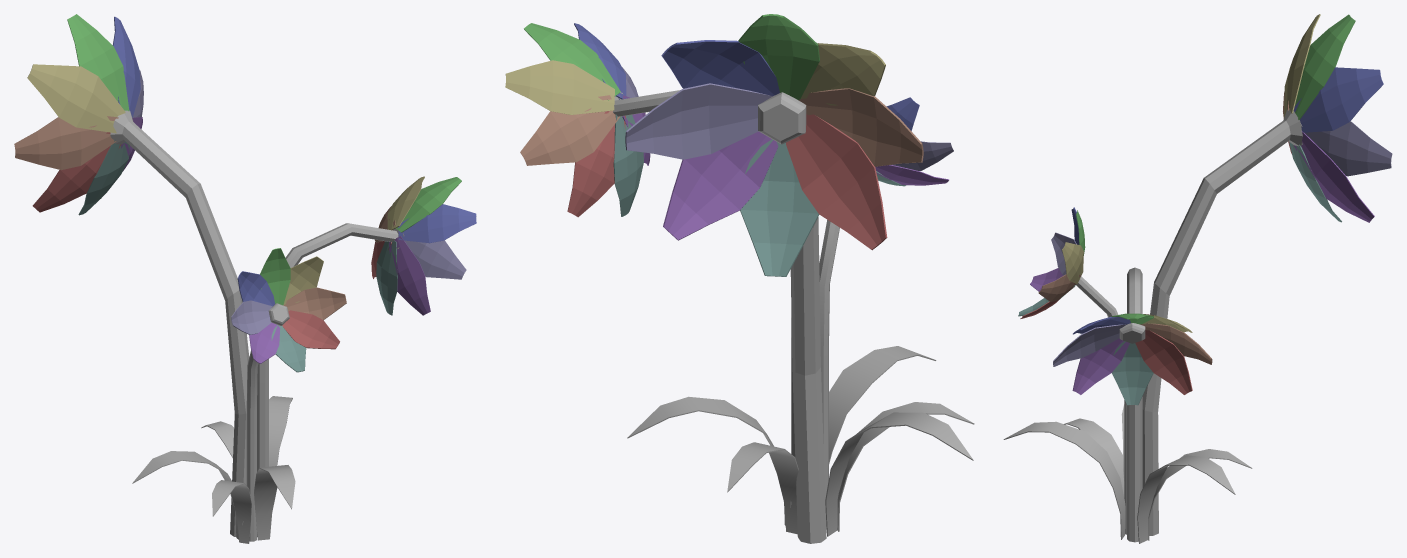
Rendered from Flores var3.fbx.
3 views of the same model, side by side, from view 1: azimuth 30°, elevation 25°; view 2: azimuth 150°, elevation 25°; view 3: azimuth 270°, elevation 25° (orthographic). The views are drawn at different scales.
Parts seen in each view (by area): view 1: caule_geo (×3), petala_geo2 (×3), petala_geo1 (×3), petala_geo3 (×2), petala_geo8 (×3), petala_geo5 (×3), petala_geo4 (×2), petala_geo7 (×2), petala_geo6 (×2), mato_geo3, mato_geo2, mato_geo1; view 2: caule_geo (×3), petala_geo4 (×2), petala_geo3 (×2), petala_geo7 (×2), petala_geo5 (×2), petala_geo6 (×2), petala_geo2 (×2), petala_geo8 (×3), petala_geo1 (×2), mato_geo3, mato_geo1, mato_geo2 (+1 smaller); view 3: caule_geo (×3), petala_geo7 (×2), petala_geo6 (×2), petala_geo8, mato_geo1, petala_geo1, petala_geo5 (×2), mato_geo2, petala_geo4, petala_geo2 (×2), petala_geo3 (×2), mato_geo3.
Boxes of the visible parts, x1=… form: caule_geo (×3): x1=110, y1=110, x2=398, y2=541; petala_geo2 (×3): x1=27, y1=64, x2=424, y2=305; petala_geo1 (×3): x1=67, y1=14, x2=461, y2=305; petala_geo3 (×2): x1=14, y1=116, x2=346, y2=320; petala_geo8 (×3): x1=112, y1=16, x2=476, y2=306; petala_geo5 (×3): x1=78, y1=139, x2=397, y2=372; petala_geo4 (×2): x1=32, y1=132, x2=339, y2=349; petala_geo7 (×2): x1=231, y1=240, x2=466, y2=334; petala_geo6 (×2): x1=249, y1=236, x2=430, y2=363; mato_geo3: x1=132, y1=451, x2=251, y2=543; mato_geo2: x1=254, y1=465, x2=295, y2=540; mato_geo1: x1=201, y1=396, x2=292, y2=466; caule_geo (×3): x1=613, y1=90, x2=839, y2=543; petala_geo4 (×2): x1=567, y1=111, x2=887, y2=250; petala_geo3 (×2): x1=520, y1=88, x2=923, y2=166; petala_geo7 (×2): x1=625, y1=83, x2=953, y2=170; petala_geo5 (×2): x1=613, y1=114, x2=819, y2=276; petala_geo6 (×2): x1=663, y1=131, x2=948, y2=240; petala_geo2 (×2): x1=505, y1=43, x2=885, y2=114; petala_geo8 (×3): x1=574, y1=23, x2=919, y2=130; petala_geo1 (×2): x1=524, y1=14, x2=819, y2=100; mato_geo3: x1=825, y1=402, x2=974, y2=536; mato_geo1: x1=627, y1=396, x2=798, y2=534; mato_geo2: x1=829, y1=346, x2=936, y2=463; caule_geo (×3): x1=1076, y1=109, x2=1302, y2=542; petala_geo7 (×2): x1=1053, y1=121, x2=1392, y2=366; petala_geo6 (×2): x1=1072, y1=131, x2=1374, y2=394; petala_geo8: x1=1293, y1=67, x2=1383, y2=132; mato_geo1: x1=1137, y1=449, x2=1252, y2=543; petala_geo1: x1=1295, y1=14, x2=1355, y2=119; petala_geo5 (×2): x1=1112, y1=142, x2=1341, y2=405; mato_geo2: x1=1003, y1=421, x2=1125, y2=539; petala_geo4: x1=1135, y1=330, x2=1192, y2=394; petala_geo2 (×2): x1=1062, y1=14, x2=1320, y2=284; petala_geo3 (×2): x1=1038, y1=274, x2=1212, y2=364; mato_geo3: x1=1064, y1=404, x2=1124, y2=496.
Bounding box in the file's own units: 1.35 × 1.64 × 1.21.
